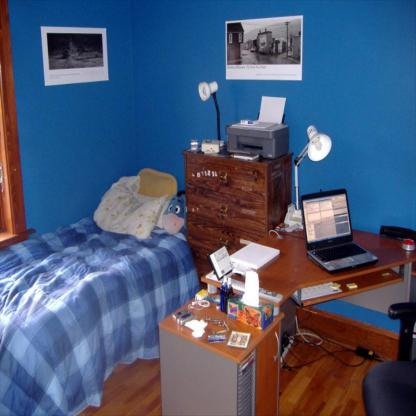board: (301, 188, 379, 273), (225, 277, 233, 312), (221, 275, 228, 311)
